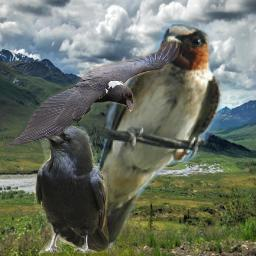Crow: (3, 39, 180, 149), (34, 126, 109, 253)
Swallow: (62, 20, 222, 248)
